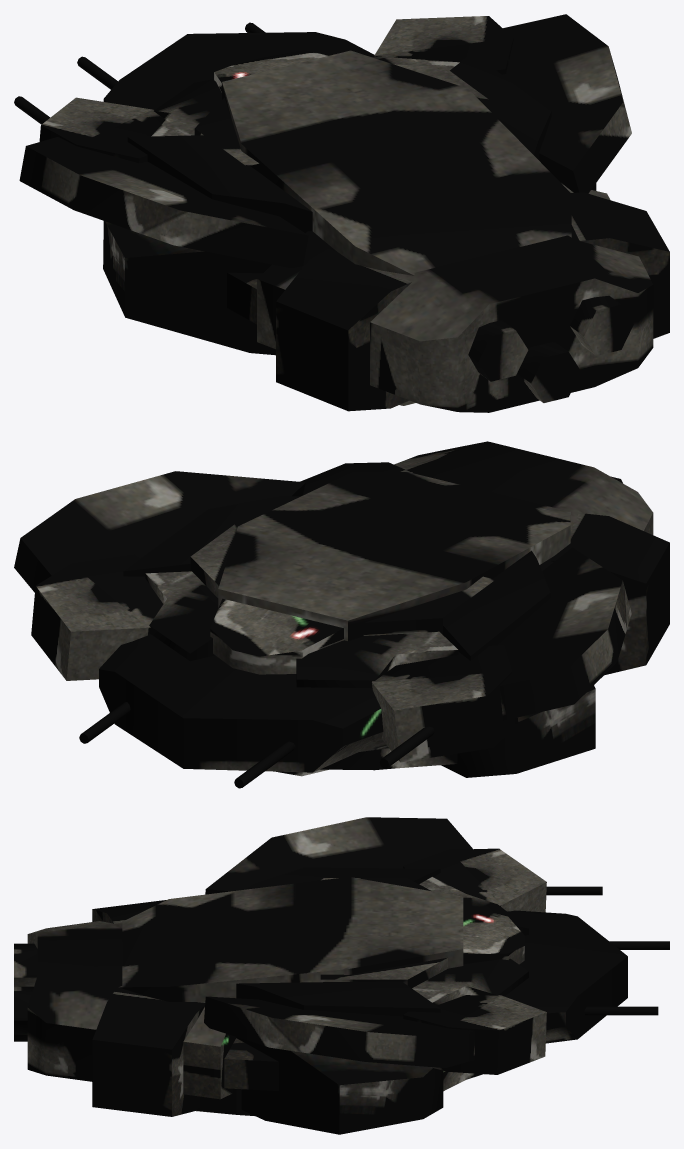
Rendered from ship09b.fbx.
The picture shows the model from 3 angles, top to bottom: view 1: azimuth 30°, elevation 25°; view 2: azimuth 150°, elevation 25°; view 3: azimuth 270°, elevation 25°; orthographic projection. The views are drawn at different scales.
Parts seen in each view (by area): view 1: PipelineFBX; view 2: PipelineFBX; view 3: PipelineFBX.
Boxes of the visible parts, left/top/right/bottom form: PipelineFBX: left=14, top=14, right=669, bottom=412; PipelineFBX: left=14, top=441, right=669, bottom=788; PipelineFBX: left=14, top=817, right=669, bottom=1134.
Size of the model in its own units: 119 by 39.03 by 146.
1 material, 1 textured.
